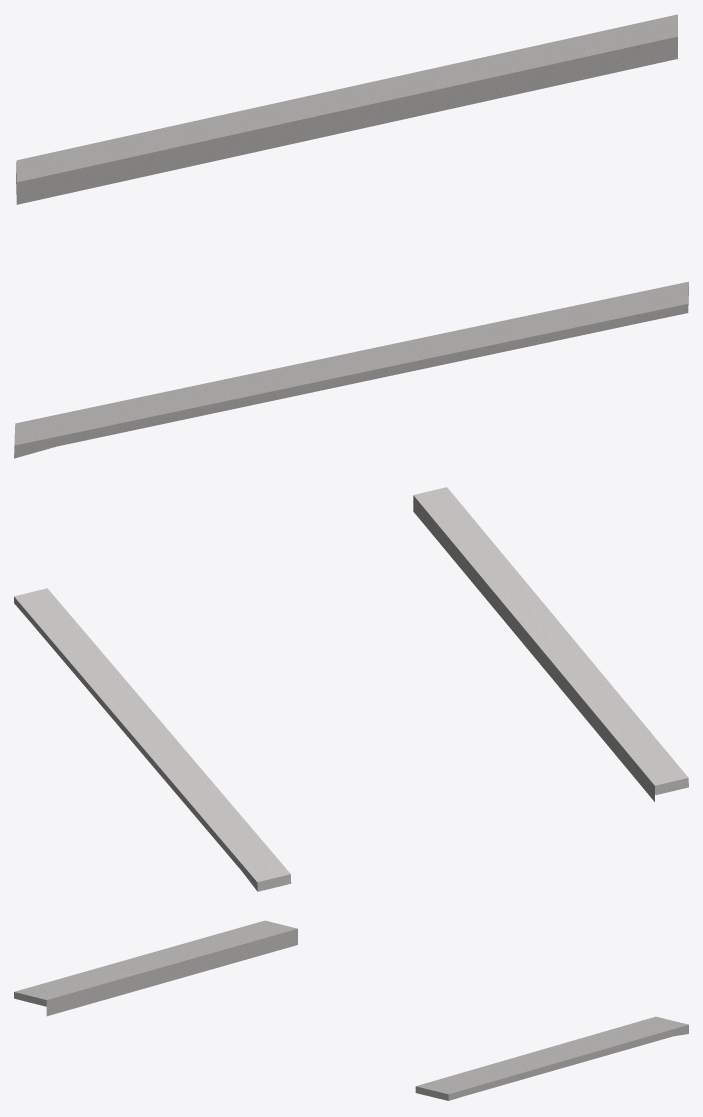
File: kd_stage_1366d7_0_22.glb
3 renders of one model, top to bottom at view 1: azimuth 30°, elevation 25°; view 2: azimuth 150°, elevation 25°; view 3: azimuth 270°, elevation 25°, orthographic. The views are drawn at different scales.
Visible parts, largest first — view 1: kd_stage_1366d7_0_22; view 2: kd_stage_1366d7_0_22; view 3: kd_stage_1366d7_0_22.
Boxes of the visible parts, left/top/right/bottom form: kd_stage_1366d7_0_22: left=14, top=14, right=688, bottom=458; kd_stage_1366d7_0_22: left=14, top=487, right=688, bottom=891; kd_stage_1366d7_0_22: left=14, top=920, right=688, bottom=1100.
Bounding box in the file's own units: 13.03 × 2.65 × 13.26.
Materials: 1 (1 with a texture image).
